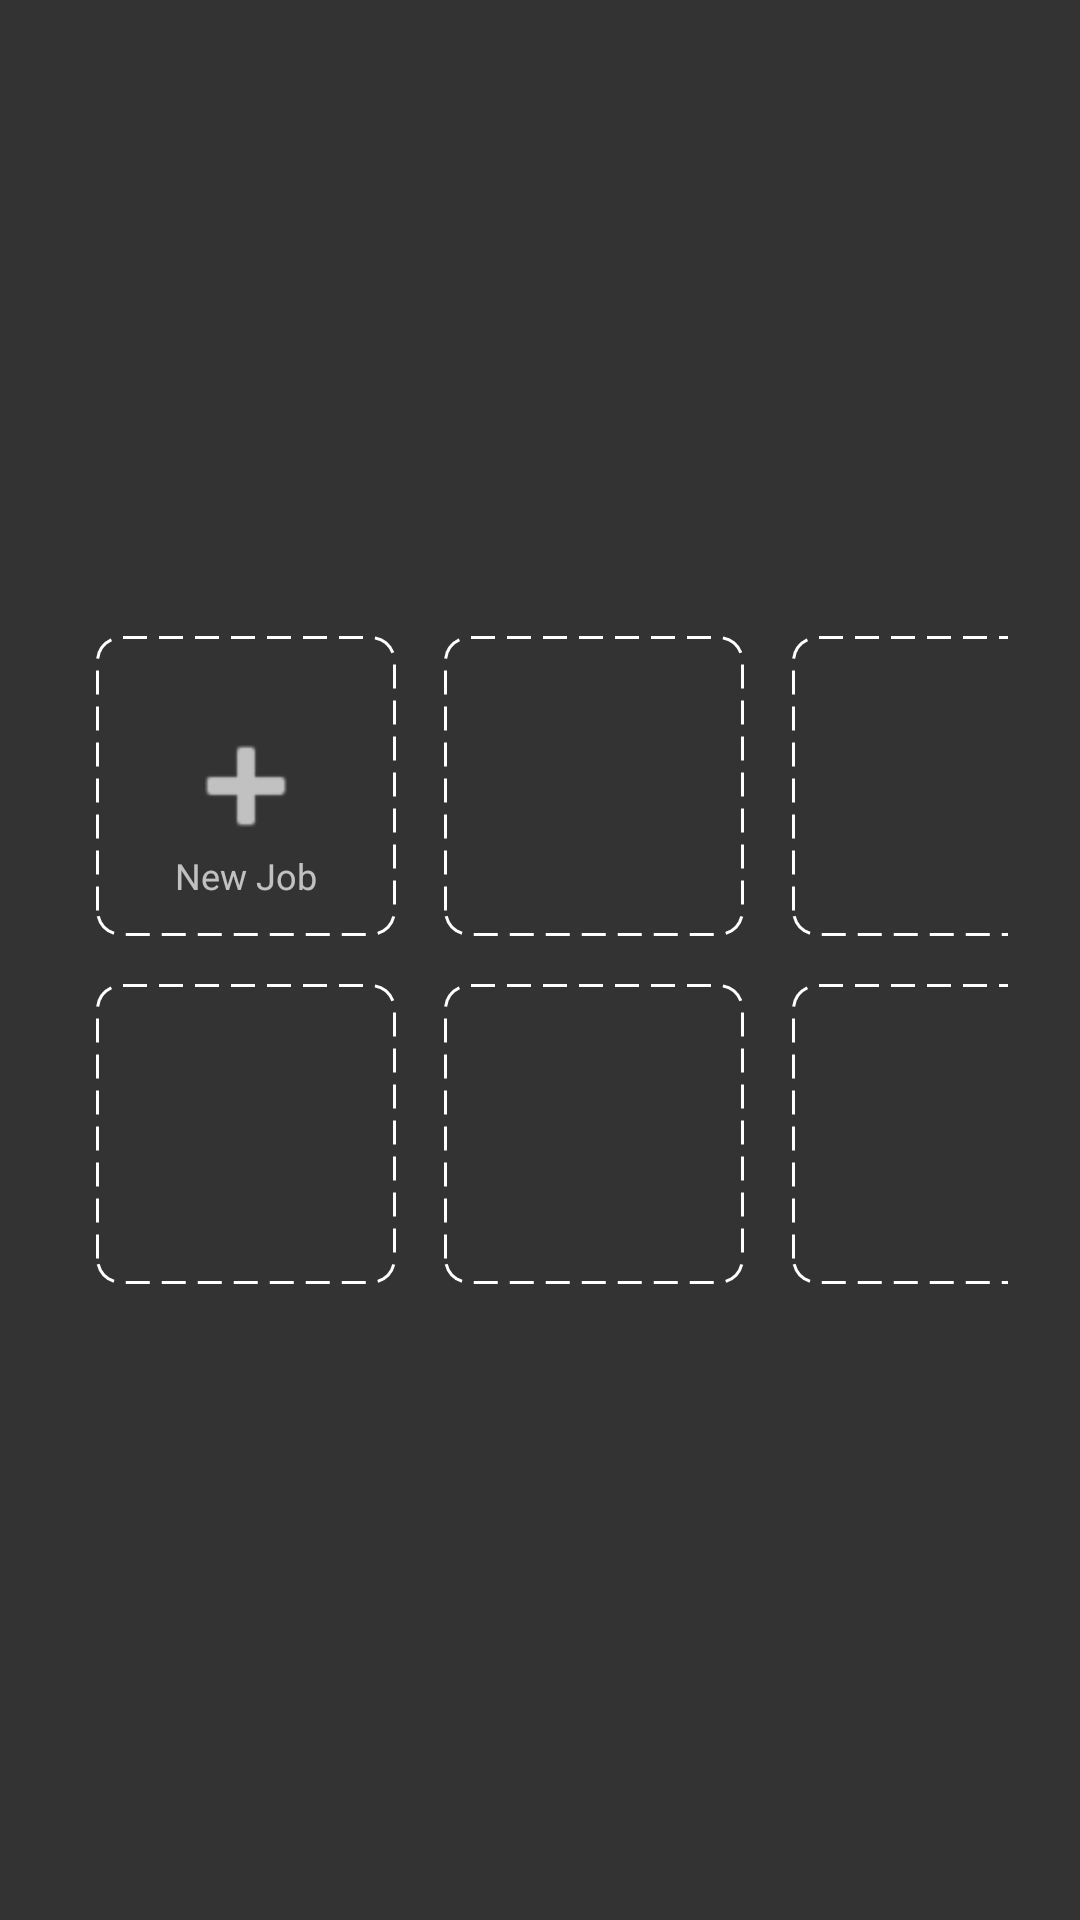

Screen size 1080 x 1920. Icon name, then its center in pixels as (x=x, y=y):
add: (x=246, y=786)
